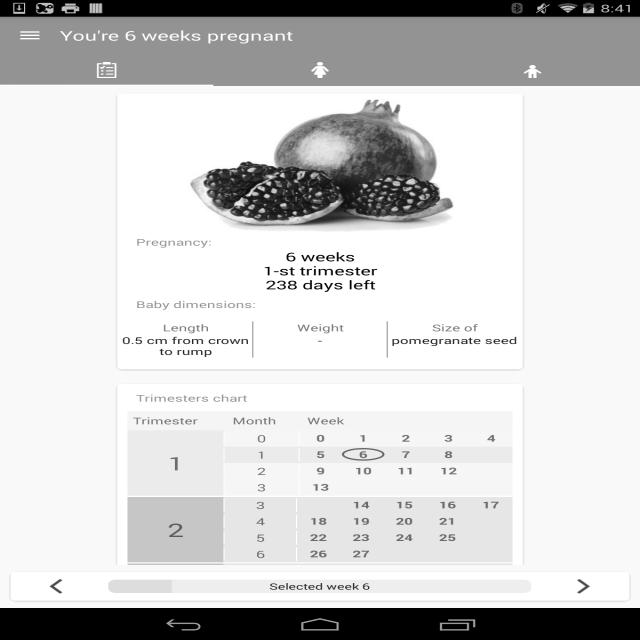Button: (12, 573, 100, 600), (540, 573, 628, 600)
ImageView: (119, 94, 521, 236), (307, 62, 333, 78), (94, 62, 119, 78), (521, 62, 546, 78)
ProgressBar: (108, 580, 531, 593)
TextView: (59, 16, 640, 54), (136, 248, 504, 293), (128, 385, 512, 411), (128, 430, 224, 496), (128, 497, 224, 562), (128, 564, 224, 629), (100, 580, 540, 593), (136, 298, 487, 311), (119, 334, 252, 358), (307, 414, 507, 427), (253, 321, 387, 334), (253, 334, 387, 347), (119, 321, 252, 334), (388, 321, 521, 334), (388, 334, 521, 347), (133, 414, 232, 427), (223, 448, 300, 462), (223, 464, 300, 478), (224, 498, 297, 512), (224, 531, 297, 545), (224, 547, 297, 561), (223, 432, 300, 445), (223, 481, 300, 494), (233, 414, 307, 427), (224, 515, 297, 528), (136, 236, 212, 248), (427, 448, 470, 461), (427, 464, 470, 477), (297, 498, 340, 511), (340, 498, 383, 511), (383, 498, 426, 511), (426, 498, 469, 511), (297, 531, 340, 544), (340, 531, 383, 544), (383, 531, 426, 544), (426, 531, 469, 544), (297, 547, 340, 560), (340, 547, 383, 560), (383, 547, 426, 560), (426, 547, 469, 560), (300, 448, 342, 461), (342, 448, 384, 461), (385, 448, 427, 461), (470, 448, 512, 461), (300, 464, 342, 477), (342, 464, 384, 477), (385, 464, 427, 477), (470, 464, 512, 477), (470, 498, 512, 511), (470, 531, 512, 544), (470, 547, 512, 560), (427, 432, 470, 444), (427, 481, 470, 493), (297, 515, 340, 527), (340, 515, 383, 527), (383, 515, 426, 527), (426, 515, 469, 527), (300, 432, 342, 444), (342, 432, 384, 444), (385, 432, 427, 444), (470, 432, 512, 444), (300, 481, 342, 493), (342, 481, 384, 493), (385, 481, 427, 493), (470, 481, 512, 493), (470, 515, 512, 527), (17, 28, 43, 44)
